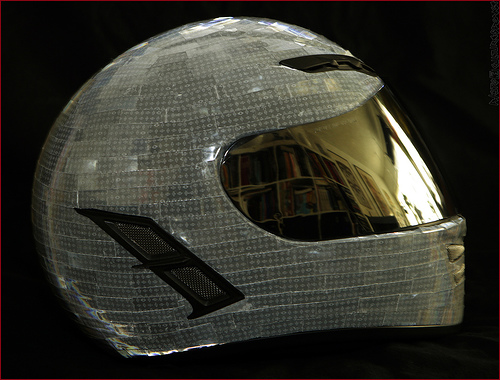helmet: (20, 36, 451, 343)
